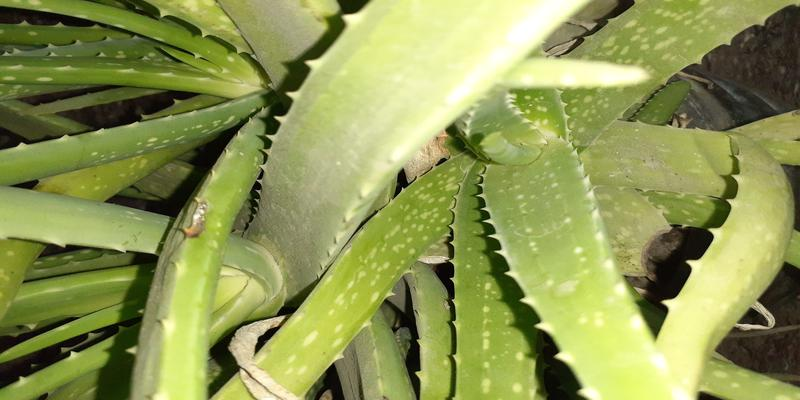Aloevera: (76, 17, 646, 363)
